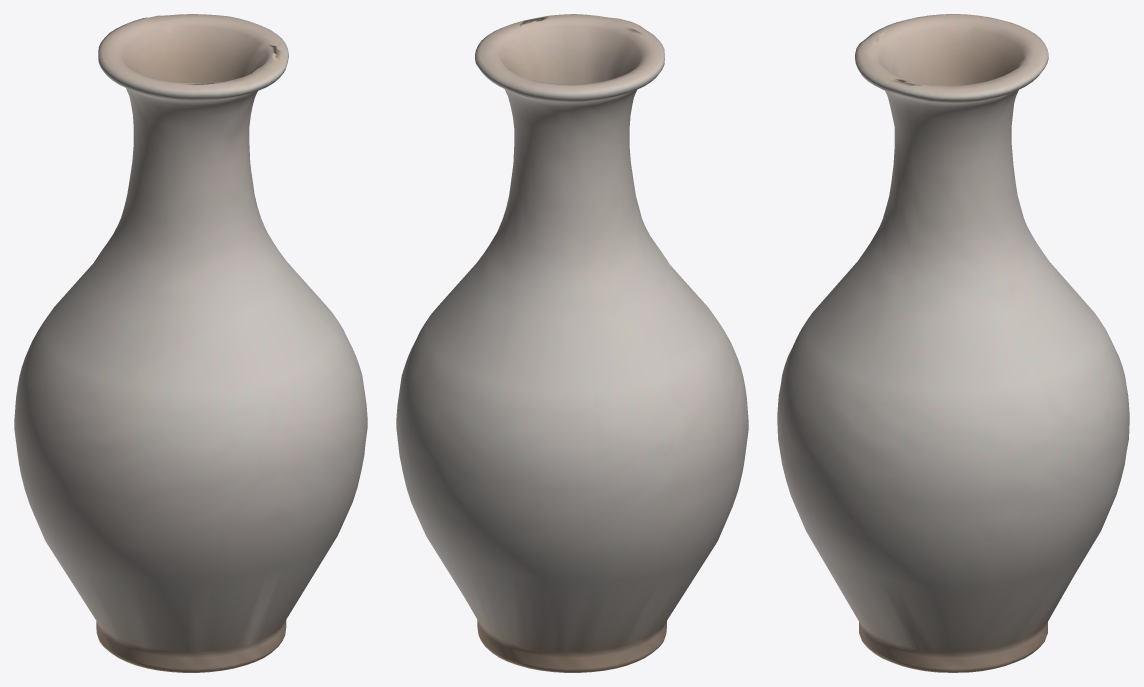
File: a_ceramic_vase_e2f391f8_v1.glb
The picture shows the model from 3 angles, left to right: view 1: azimuth 30°, elevation 25°; view 2: azimuth 150°, elevation 25°; view 3: azimuth 270°, elevation 25°; orthographic projection.
Parts seen in each view (by area): view 1: material; view 2: material; view 3: material.
Part boxes in pixels (x1=…): material: x1=14, y1=14, x2=367, y2=672; material: x1=396, y1=14, x2=748, y2=672; material: x1=777, y1=14, x2=1129, y2=672.
Size of the model in its own units: 1.04 by 1.9 by 1.04.
1 material, 1 textured.
